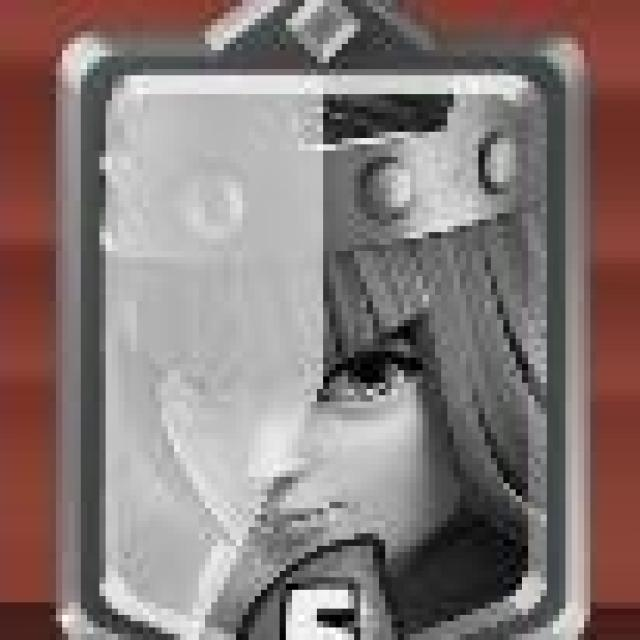Archer_Queen: (51, 0, 599, 640)
